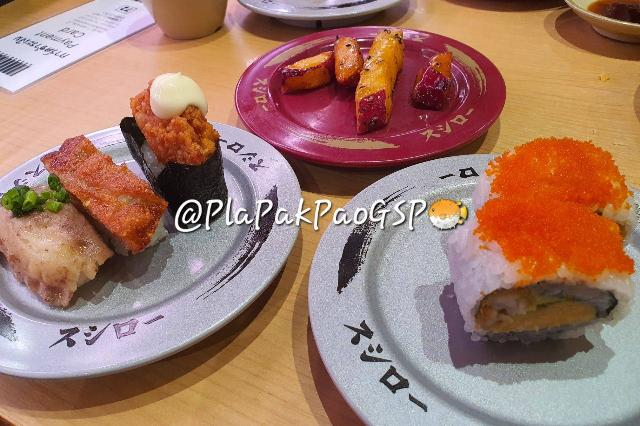janred: (241, 49, 479, 152)
janwhite: (341, 169, 640, 409), (0, 122, 271, 334), (233, 0, 413, 20)
